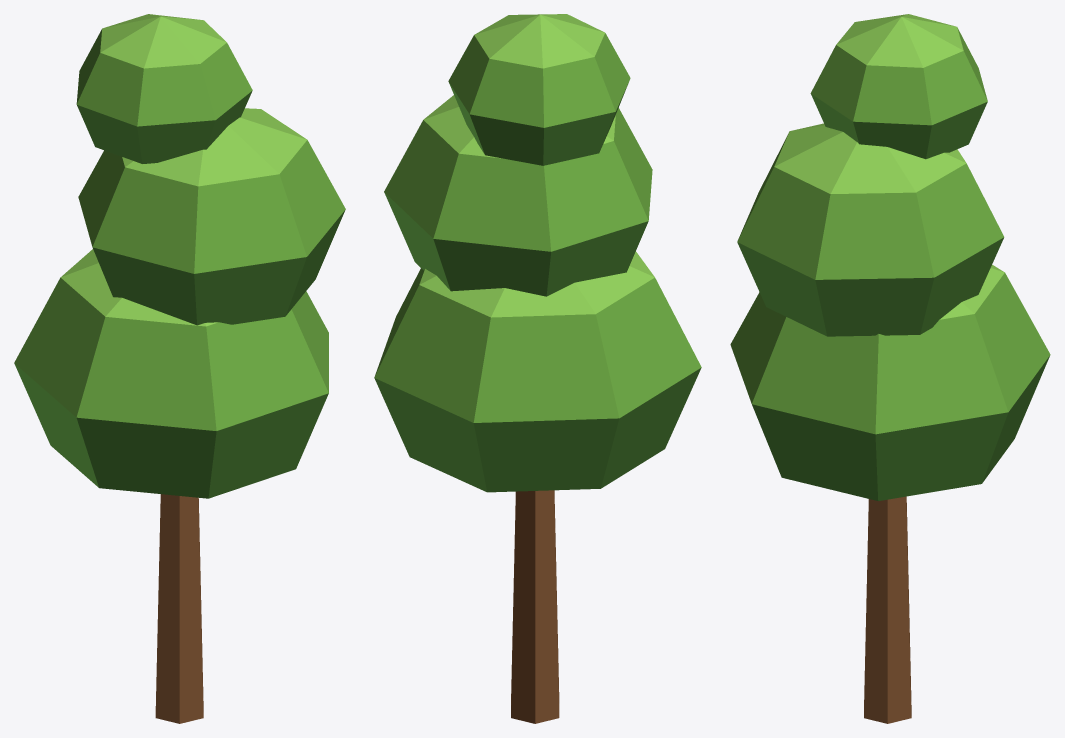
File: tree_default.glb
The picture shows the model from 3 angles, left to right: view 1: azimuth 30°, elevation 25°; view 2: azimuth 150°, elevation 25°; view 3: azimuth 270°, elevation 25°; orthographic projection. The views are drawn at different scales.
Parts seen in each view (by area): view 1: tree_default; view 2: tree_default; view 3: tree_default.
Boxes of the visible parts, x1=… form: tree_default: x1=14, y1=14, x2=345, y2=723; tree_default: x1=374, y1=14, x2=701, y2=723; tree_default: x1=730, y1=14, x2=1050, y2=723.
Size of the model in its own units: 0.6941 by 1.66 by 0.7.
1 material, 1 textured.
